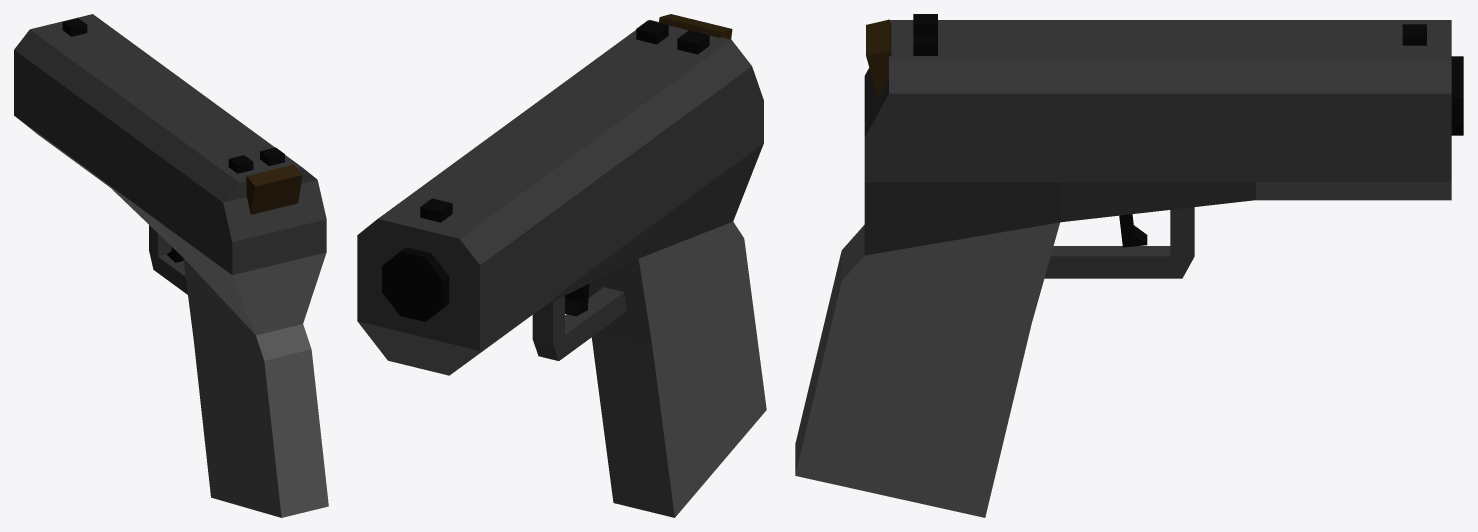
File: pistol.gltf
The picture shows the model from 3 angles, left to right: view 1: azimuth 30°, elevation 25°; view 2: azimuth 150°, elevation 25°; view 3: azimuth 270°, elevation 25°; orthographic projection. The views are drawn at different scales.
Parts seen in each view (by area): view 1: barrel, grip, hammer, trigger well, sight 2, sight 3; view 2: barrel, grip, trigger well, hole, hammer, sight 1, sight 2, sight 3, trigger; view 3: barrel, grip, trigger well, hammer, hole.
Boxes of the visible parts, x1,y1,x2,y2 form: barrel: [14, 14, 326, 275]; grip: [16, 117, 328, 517]; hammer: [246, 164, 302, 214]; trigger well: [149, 225, 187, 294]; sight 2: [228, 155, 253, 173]; sight 3: [62, 18, 87, 36]; barrel: [357, 20, 763, 350]; grip: [357, 143, 766, 517]; trigger well: [532, 287, 626, 360]; hole: [382, 247, 449, 321]; hammer: [659, 14, 732, 39]; sight 1: [636, 20, 668, 44]; sight 2: [677, 30, 709, 54]; sight 3: [420, 198, 452, 222]; trigger: [565, 284, 589, 316]; barrel: [864, 20, 1451, 182]; grip: [795, 182, 1451, 517]; trigger well: [1044, 207, 1194, 278]; hammer: [866, 19, 891, 97]; hole: [1451, 56, 1463, 135].
Bounding box in the file's own units: 0.0188 × 0.0667 × 0.0854.
Materials: 7 (7 with a texture image).
